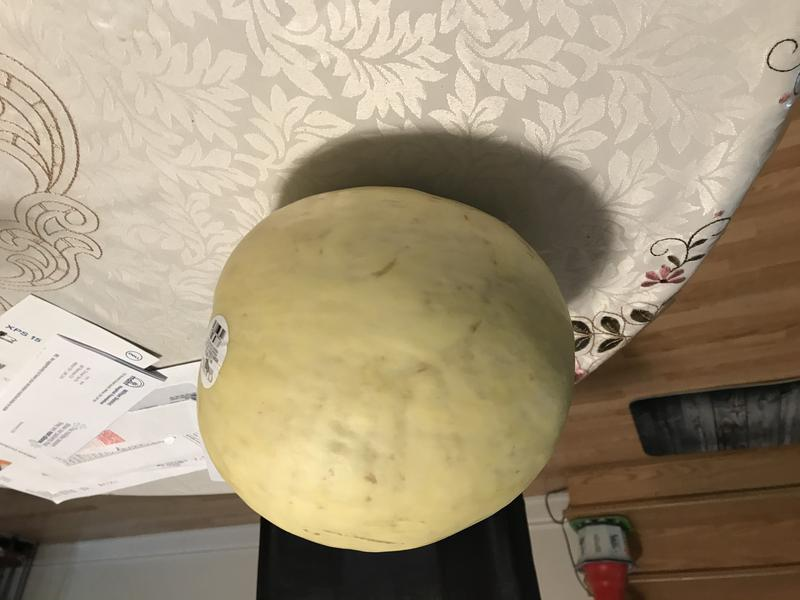honeydew: (175, 179, 582, 563)
